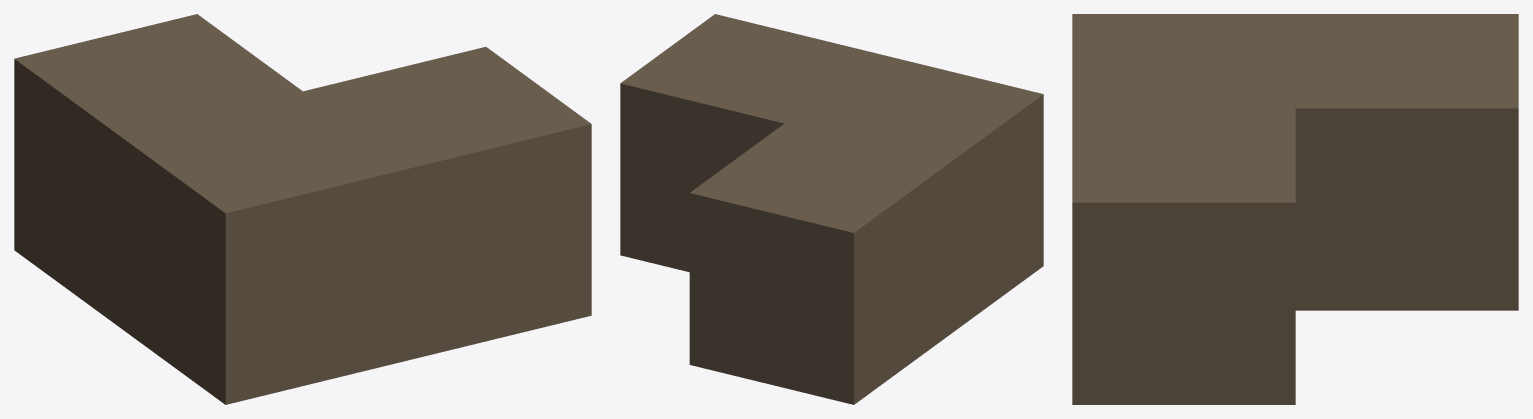
Rendered from terrain-soil-inner-corner.lod0.glb.
3 views of the same model, side by side, from view 1: azimuth 30°, elevation 25°; view 2: azimuth 150°, elevation 25°; view 3: azimuth 270°, elevation 25° (orthographic). The views are drawn at different scales.
Parts seen in each view (by area): view 1: terrain-soil-inner-corner__body; view 2: terrain-soil-inner-corner__body; view 3: terrain-soil-inner-corner__body.
Boxes of the visible parts, x1,y1,x2,y2 form: terrain-soil-inner-corner__body: (14,14,591,404); terrain-soil-inner-corner__body: (620,14,1043,404); terrain-soil-inner-corner__body: (1072,14,1518,404).
Bounding box in the file's own units: 2 × 1.03 × 2.
